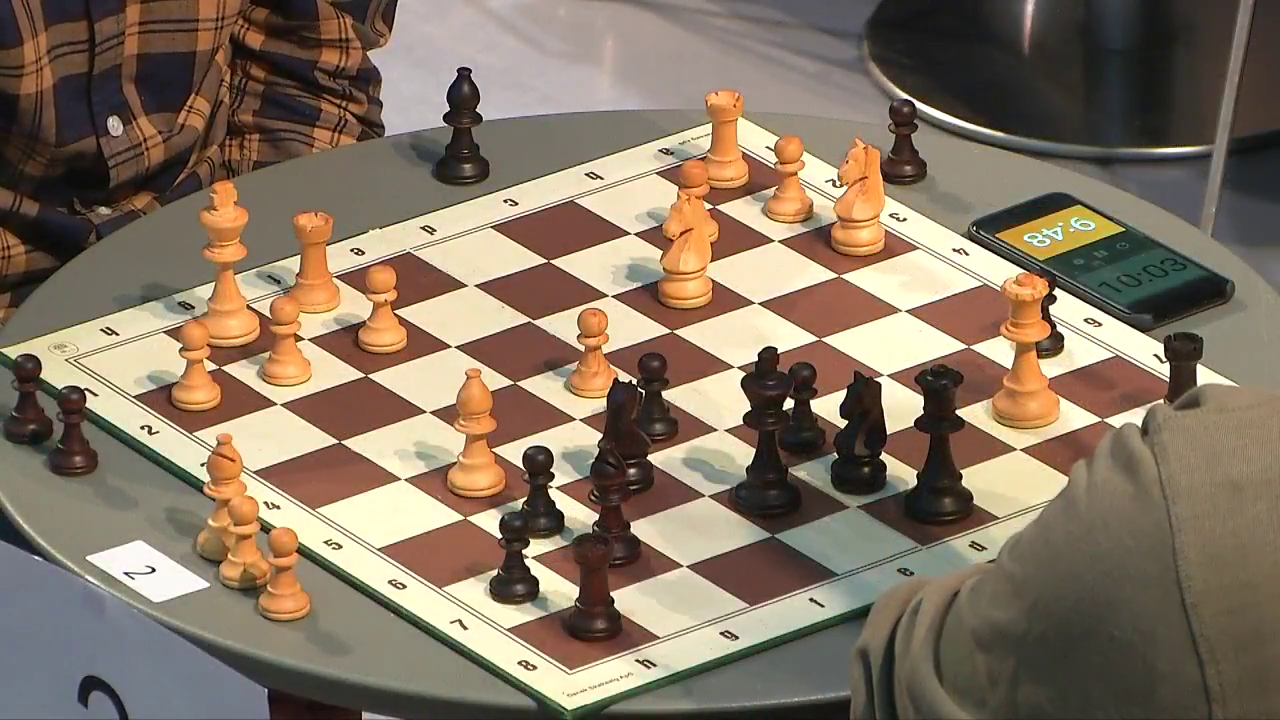black-bishop: (583, 439, 643, 568), (432, 65, 491, 187)
black-king: (730, 346, 804, 518)
black-knight: (590, 376, 656, 494), (829, 368, 888, 495)
black-pawn: (511, 445, 566, 540), (624, 351, 680, 443), (774, 361, 828, 455), (487, 511, 540, 606), (1012, 267, 1065, 359), (3, 352, 54, 446), (48, 385, 99, 476), (877, 96, 928, 187)
black-queen: (904, 362, 975, 526)
black-rook: (564, 531, 623, 643), (1158, 331, 1209, 433)
white-bishop: (445, 367, 508, 500), (195, 431, 258, 564)
white-king: (191, 178, 261, 348)
white-knight: (828, 136, 887, 258), (657, 190, 715, 310)
white-pawn: (216, 494, 273, 590), (257, 526, 312, 623), (169, 319, 223, 413), (565, 307, 619, 400), (258, 295, 312, 388), (356, 264, 409, 355), (666, 159, 720, 246), (763, 135, 815, 224)
white-queen: (989, 271, 1062, 431)
white-rook: (287, 210, 341, 315), (698, 89, 751, 190)
